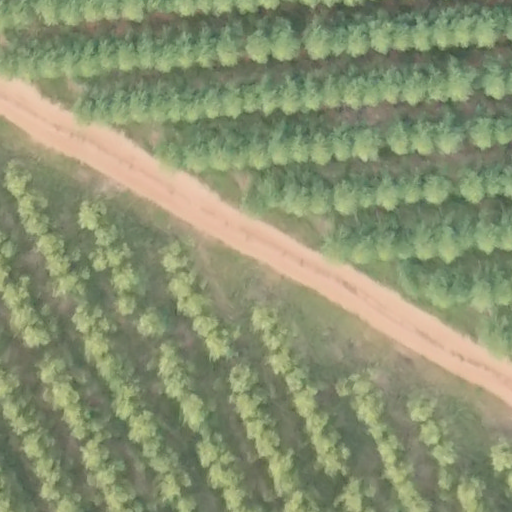eucalipto: (341, 375, 386, 423), (239, 415, 287, 460), (156, 347, 197, 397), (16, 186, 53, 239), (350, 118, 387, 167), (335, 471, 378, 512), (376, 223, 419, 263), (23, 315, 63, 355), (248, 296, 287, 337), (111, 260, 152, 299), (52, 265, 94, 303), (151, 466, 194, 503), (217, 19, 250, 67), (479, 53, 512, 99), (436, 110, 469, 156), (180, 386, 213, 431), (89, 241, 134, 274), (404, 387, 441, 427), (305, 15, 337, 61), (447, 57, 479, 103), (421, 165, 453, 210), (137, 303, 177, 339), (272, 15, 302, 63), (113, 380, 149, 420), (414, 217, 444, 264), (46, 375, 84, 412), (198, 433, 235, 470), (305, 415, 342, 452), (142, 442, 179, 479), (1, 275, 36, 314), (19, 426, 59, 460), (459, 163, 488, 209), (226, 359, 262, 396), (79, 436, 116, 472), (83, 329, 118, 367), (245, 123, 272, 172), (268, 120, 296, 167), (466, 112, 498, 153), (282, 173, 313, 215), (97, 478, 139, 509), (75, 197, 110, 234), (456, 468, 487, 509), (36, 230, 71, 266), (386, 113, 414, 158), (453, 6, 481, 51), (247, 20, 276, 63), (333, 178, 363, 219), (39, 350, 74, 385), (400, 64, 429, 106), (476, 206, 499, 258), (125, 411, 162, 443), (196, 21, 222, 66), (376, 67, 405, 107), (3, 164, 36, 199), (79, 35, 105, 79), (310, 123, 336, 167), (158, 83, 183, 128), (369, 15, 395, 57), (295, 385, 327, 419), (205, 329, 237, 363), (479, 5, 506, 45), (160, 243, 193, 275), (373, 428, 404, 462), (258, 74, 285, 113), (412, 118, 438, 158), (130, 82, 154, 125), (99, 34, 124, 75), (487, 432, 512, 473), (169, 269, 202, 300), (283, 75, 309, 114), (412, 13, 436, 55), (175, 28, 197, 72), (187, 130, 210, 172), (473, 270, 495, 312), (378, 173, 400, 214), (417, 418, 447, 448), (118, 32, 141, 71), (305, 72, 327, 112), (203, 82, 225, 119), (322, 72, 342, 109)
